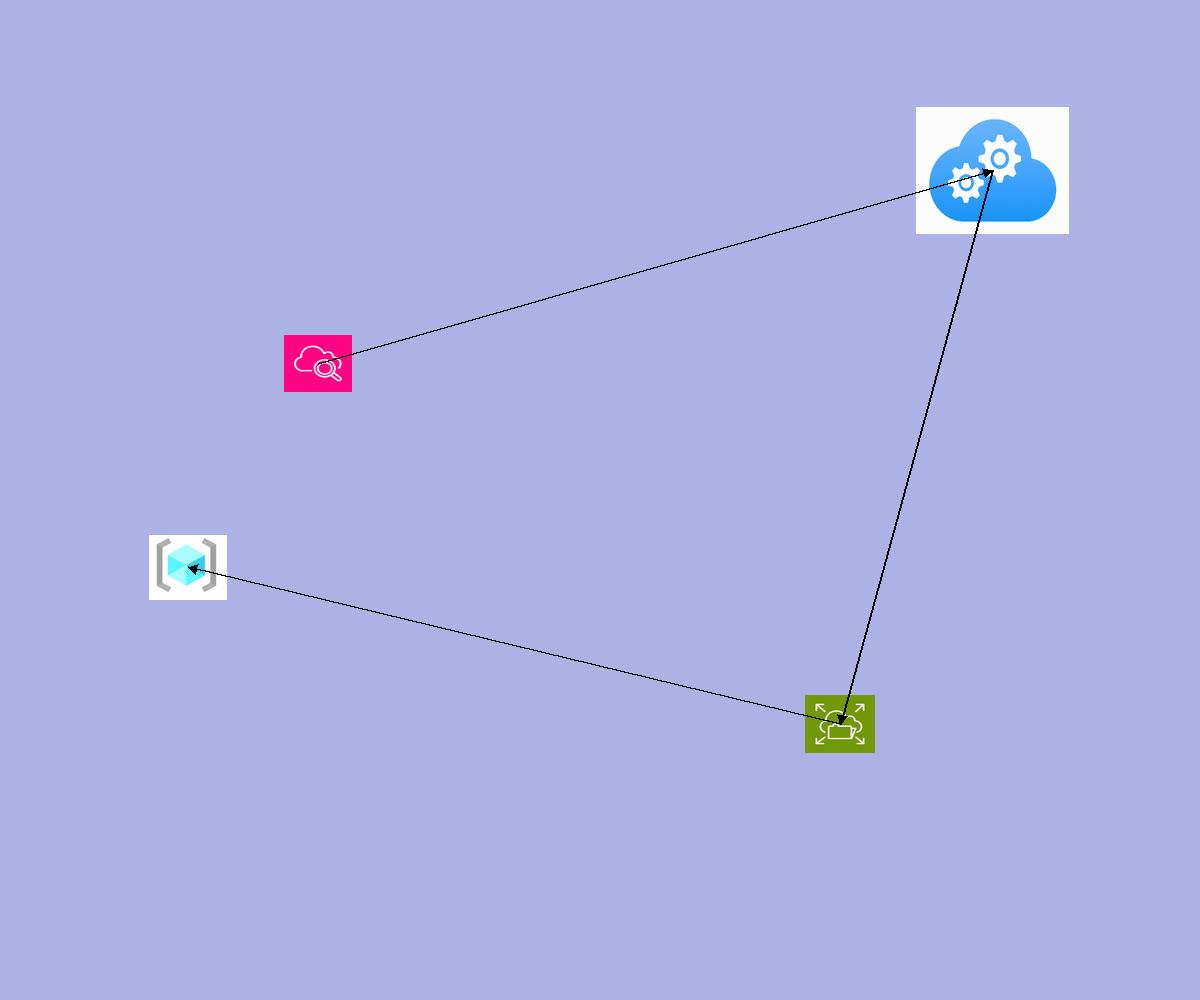AWS-CloudWatch: (284, 335, 352, 392)
AWS-EFS: (805, 695, 875, 753)
Azure_cloud_services: (916, 107, 1069, 234)
Azure_resource_group: (149, 535, 227, 600)
